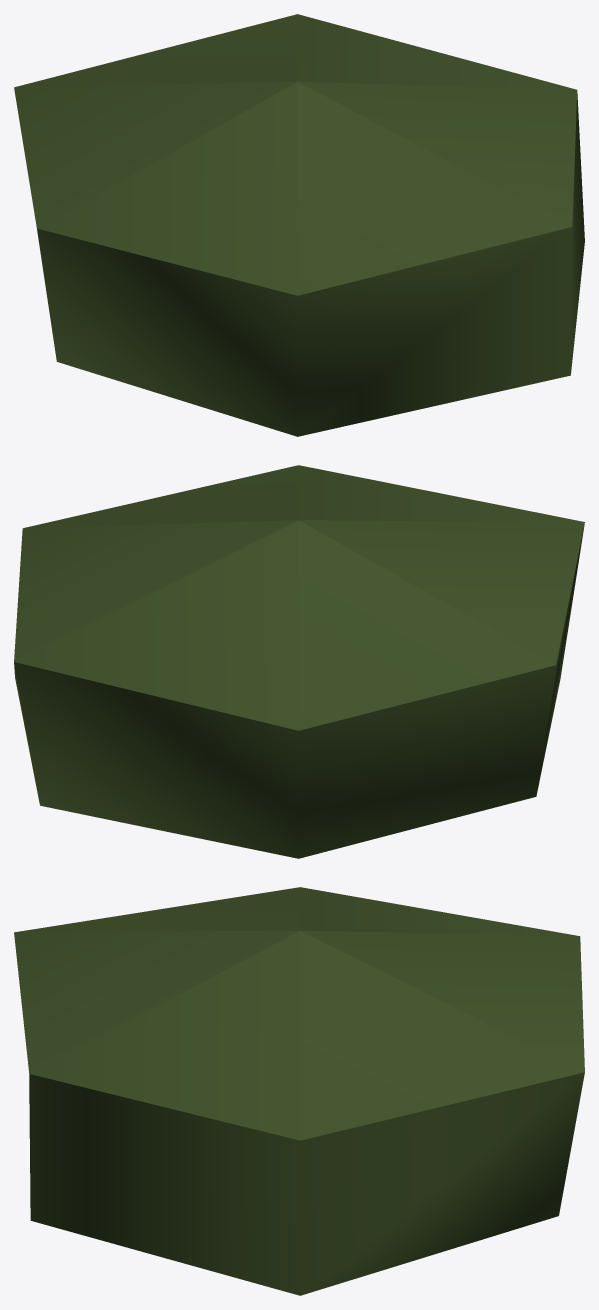
File: far_clumps.glb
3 views of the same model, one above another, from view 1: azimuth 30°, elevation 25°; view 2: azimuth 150°, elevation 25°; view 3: azimuth 270°, elevation 25° (orthographic).
Visible parts, largest first — view 1: far_clump; view 2: far_clump; view 3: far_clump.
Boxes of the visible parts, bbox=[...] form: far_clump: bbox=[14, 14, 584, 436]; far_clump: bbox=[14, 465, 584, 858]; far_clump: bbox=[14, 887, 584, 1295].
Size of the model in its own units: 1.8 by 0.8635 by 1.65.
